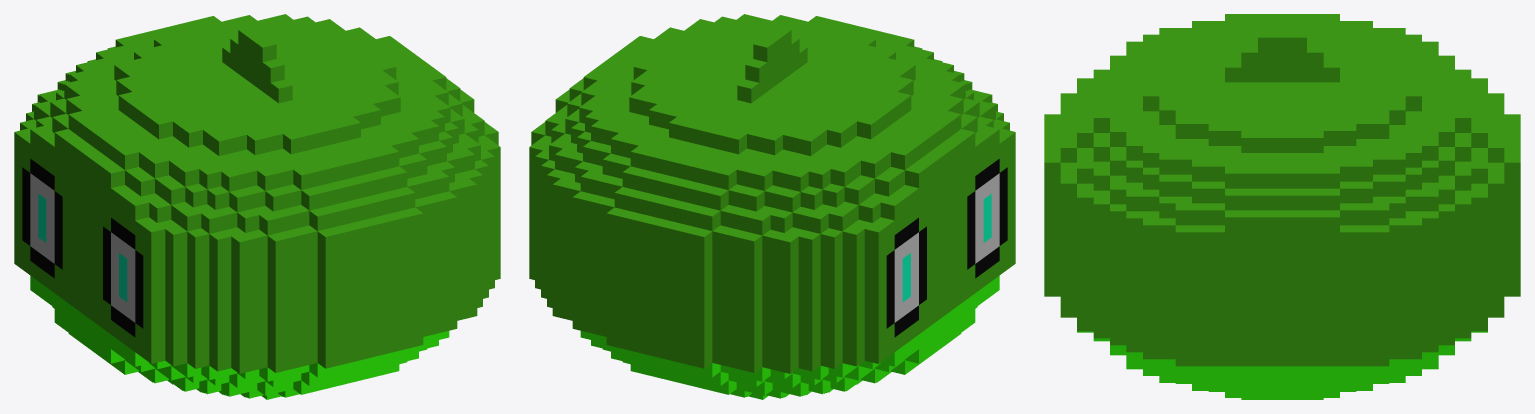
File: Enemy-1.obj
3 renders of one model, left to right at view 1: azimuth 30°, elevation 25°; view 2: azimuth 150°, elevation 25°; view 3: azimuth 270°, elevation 25°, orthographic.
Size of the model in its own units: 2.6 by 2.3 by 2.9.
Materials: 1 (1 with a texture image).
